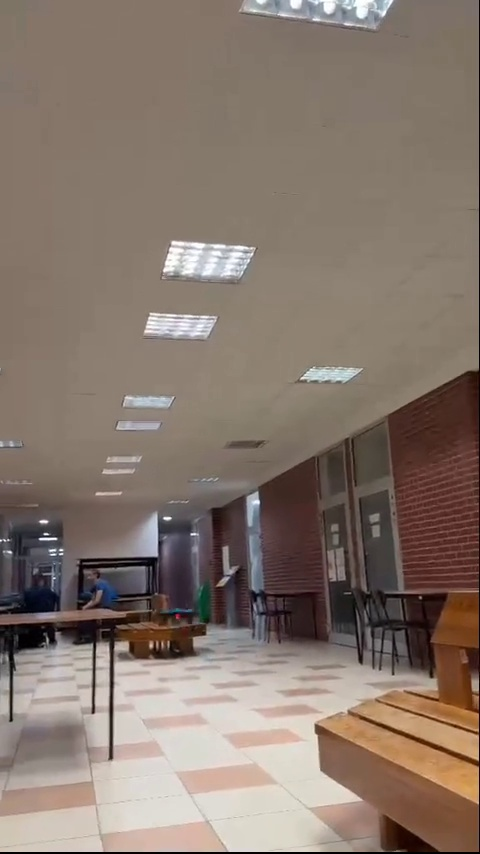drone: (156, 604, 198, 625)
no vest: (20, 575, 63, 619), (81, 567, 117, 610)
